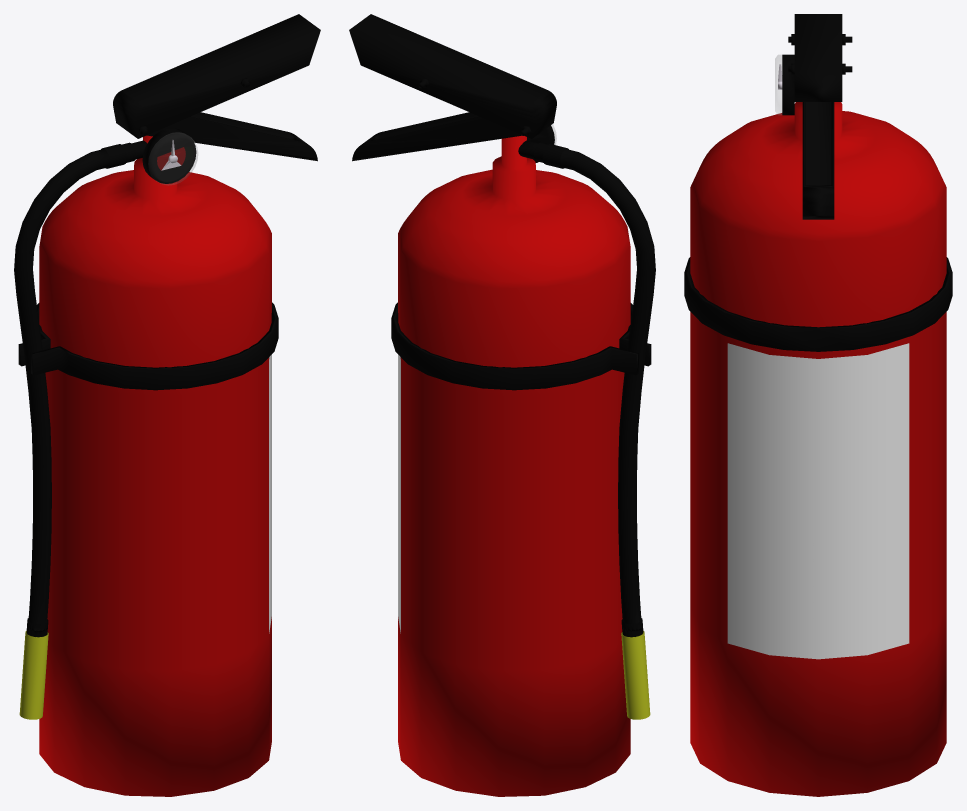
3 renders of one model, left to right at view 1: azimuth 30°, elevation 25°; view 2: azimuth 150°, elevation 25°; view 3: azimuth 270°, elevation 25°, orthographic. The views are drawn at different scales.
Visible parts, largest first — view 1: E-5; view 2: E-5; view 3: E-5.
Boxes of the visible parts, box(x1,y1,x2,y2) form: E-5: box(14, 14, 320, 796); E-5: box(349, 14, 655, 796); E-5: box(684, 14, 952, 796).
Bounding box in the file's own units: 26.28 × 58.51 × 18.94.
